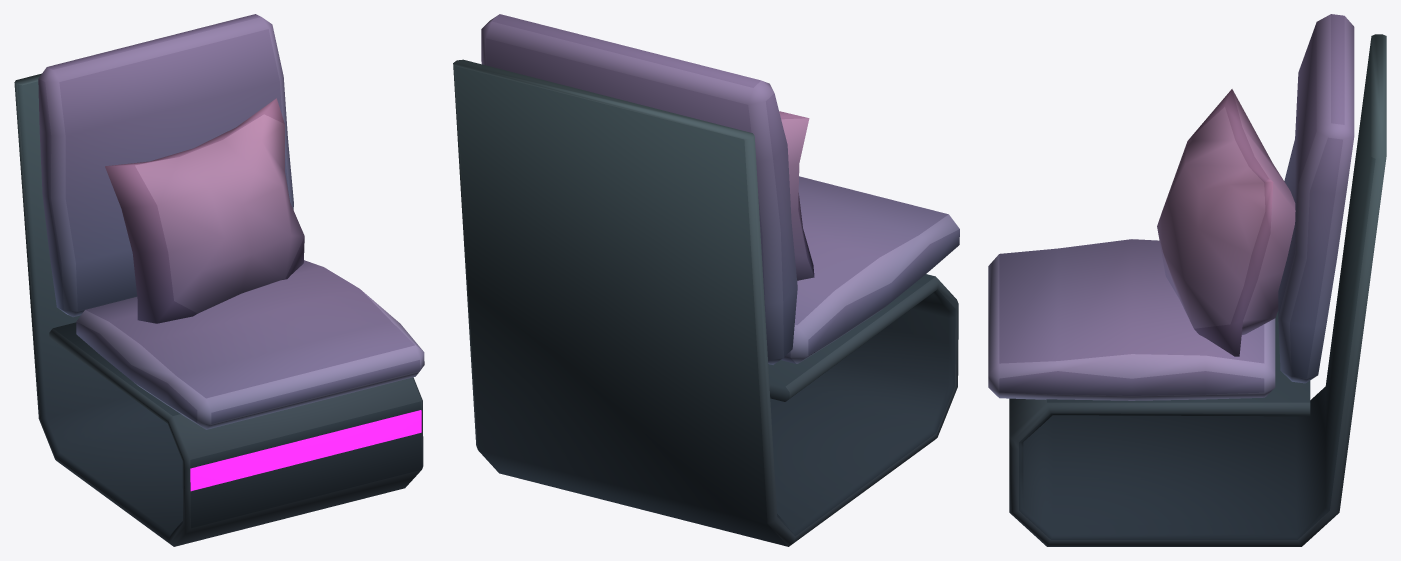
File: chair.fbx
The picture shows the model from 3 angles, left to right: view 1: azimuth 30°, elevation 25°; view 2: azimuth 150°, elevation 25°; view 3: azimuth 270°, elevation 25°; orthographic projection. The views are drawn at different scales.
Parts seen in each view (by area): view 1: Plane.002; view 2: Plane.002; view 3: Plane.002.
Part boxes in pixels (left/top/right/bottom): Plane.002: left=14, top=14, right=424, bottom=546; Plane.002: left=453, top=14, right=959, bottom=546; Plane.002: left=988, top=14, right=1386, bottom=546.
Bounding box in the file's own units: 203 × 307 × 265.
